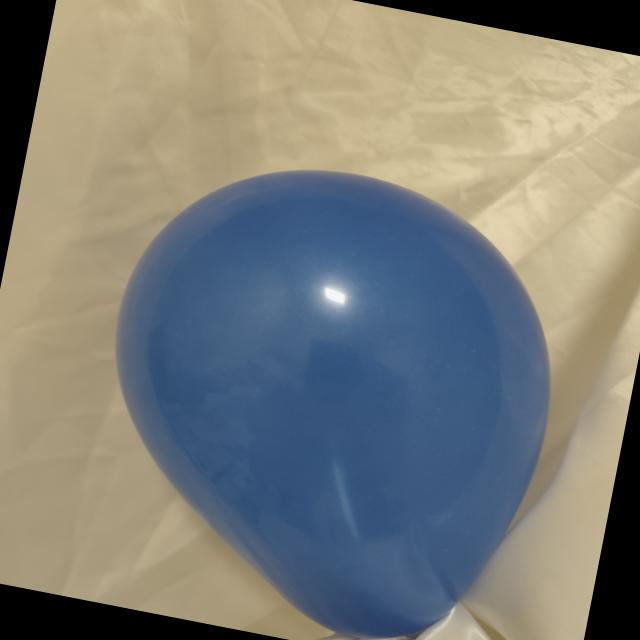balloon: (116, 171, 550, 638)
